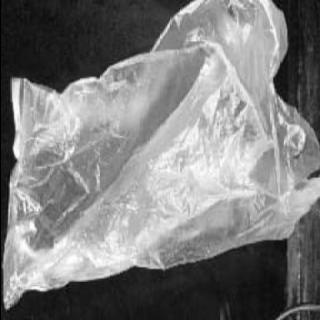objects: (2, 0, 300, 266)
